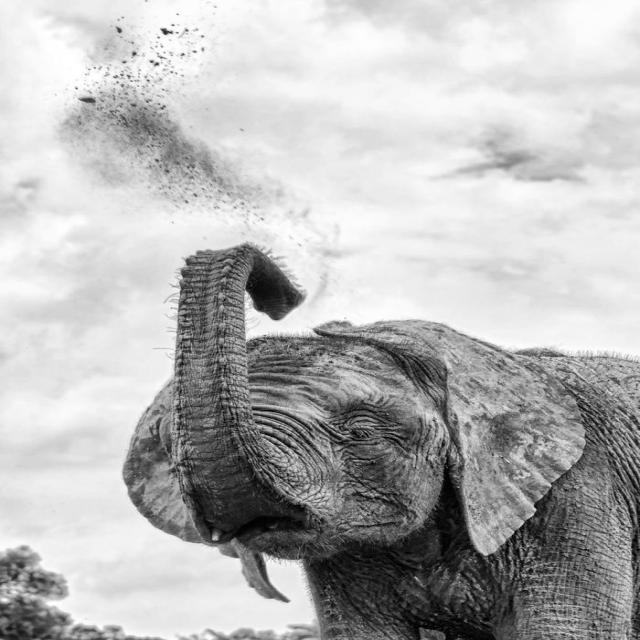Elephant: (129, 240, 639, 640)
